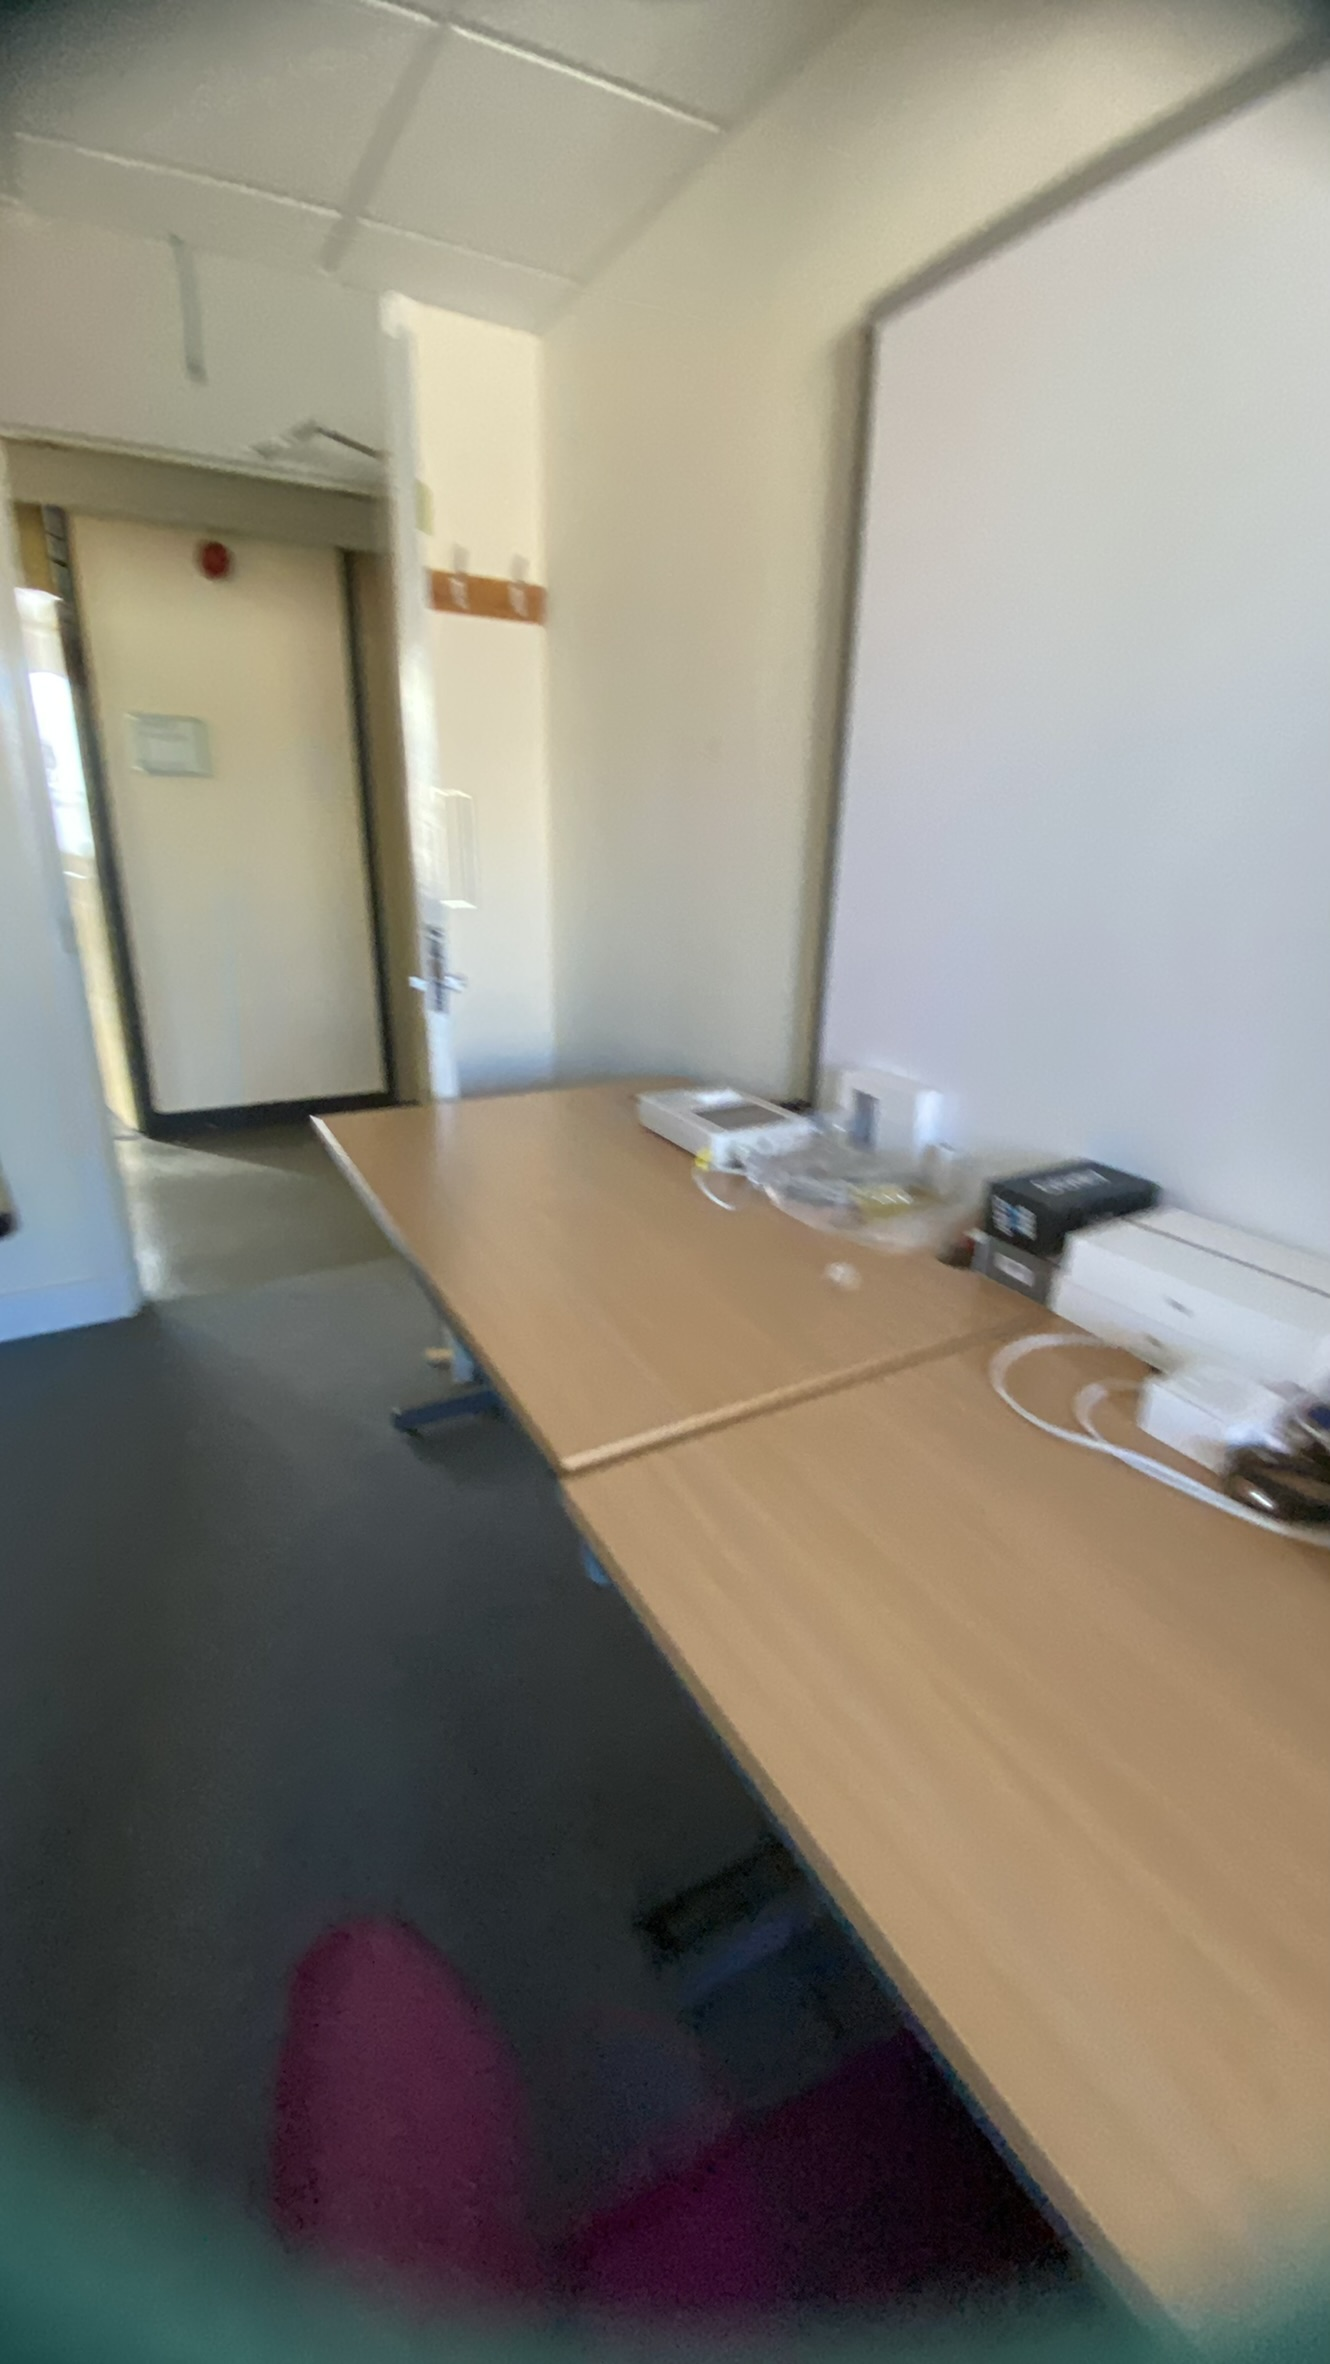door: (45, 490, 427, 1128)
table: (198, 1020, 1330, 2345)
